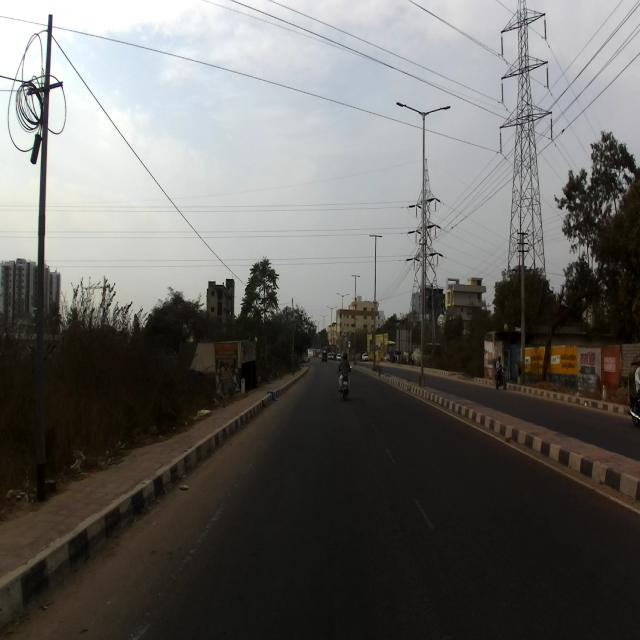electric pole ahead at: (22, 9, 64, 502)
